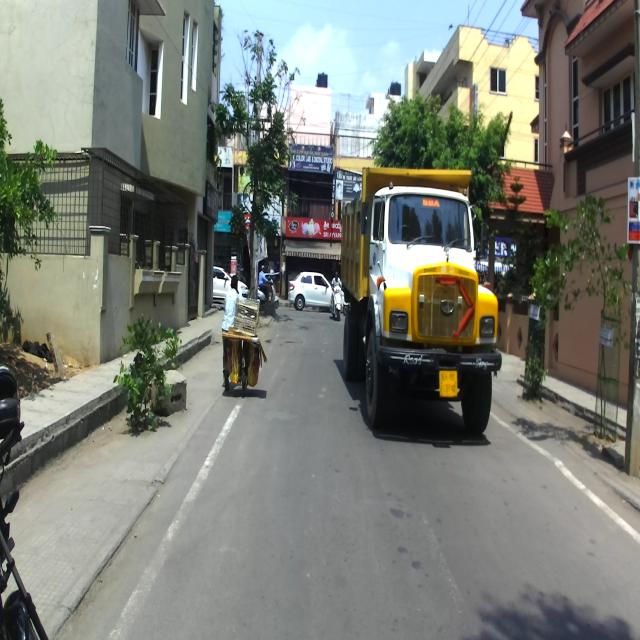person ahead at: (218, 273, 243, 394)
plant ahead at: (118, 315, 181, 437)
truck ahead at: (339, 155, 505, 440)
